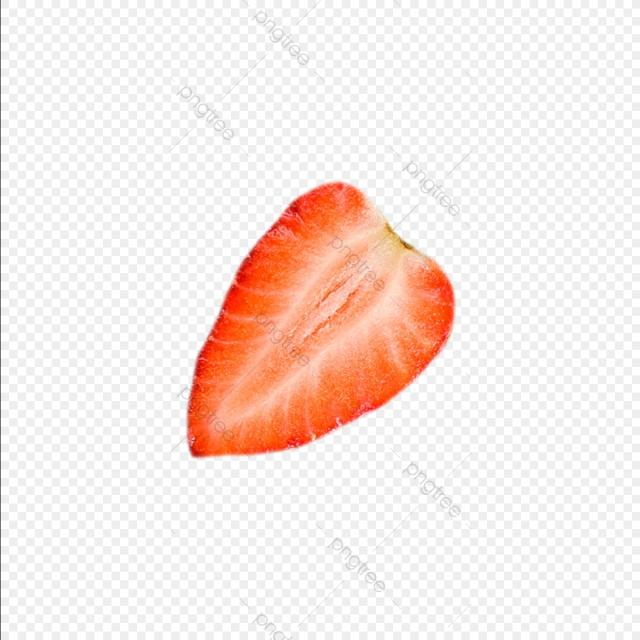strawberry: (147, 162, 463, 490)
